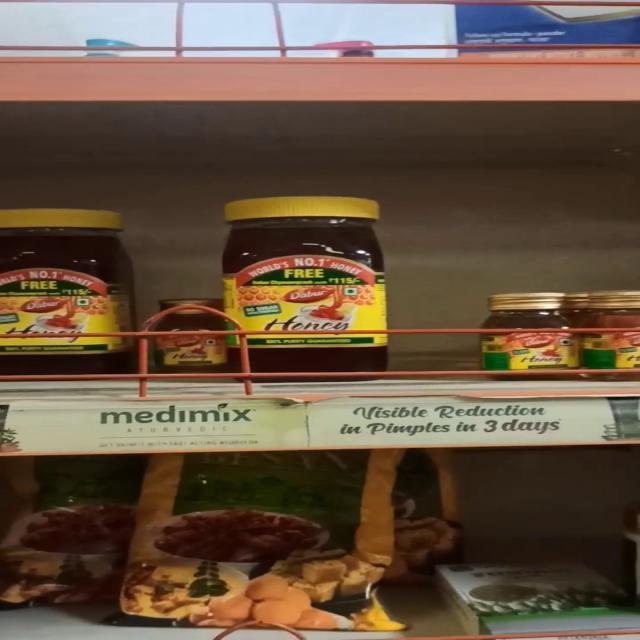Dabur Honey: (217, 198, 389, 380), (1, 208, 116, 382), (484, 296, 588, 382)
